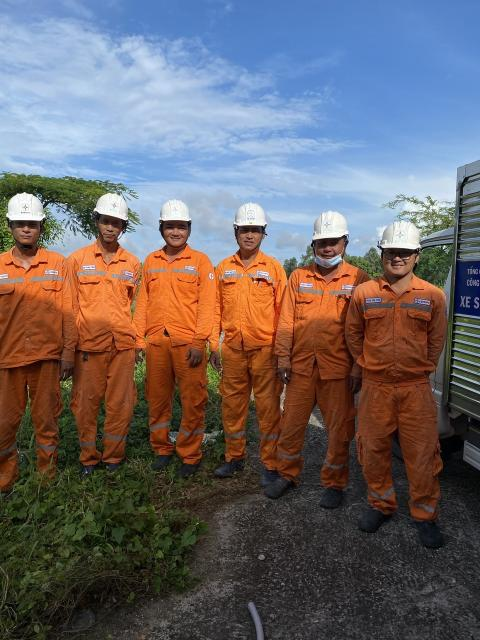helmet: (0, 180, 48, 237), (224, 190, 269, 235), (377, 211, 420, 258), (94, 186, 129, 233), (308, 206, 344, 249), (156, 191, 191, 231)
shoes: (414, 514, 448, 551), (261, 463, 290, 502), (355, 499, 386, 535), (216, 451, 241, 480), (142, 451, 174, 473), (172, 451, 195, 479), (78, 452, 98, 484), (98, 454, 120, 479), (255, 461, 274, 487), (323, 484, 341, 507)
